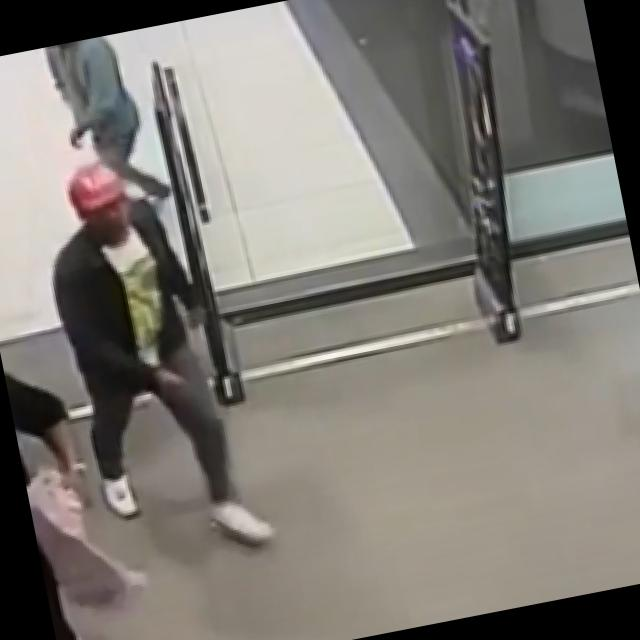person: (30, 142, 276, 572), (44, 29, 172, 220)
